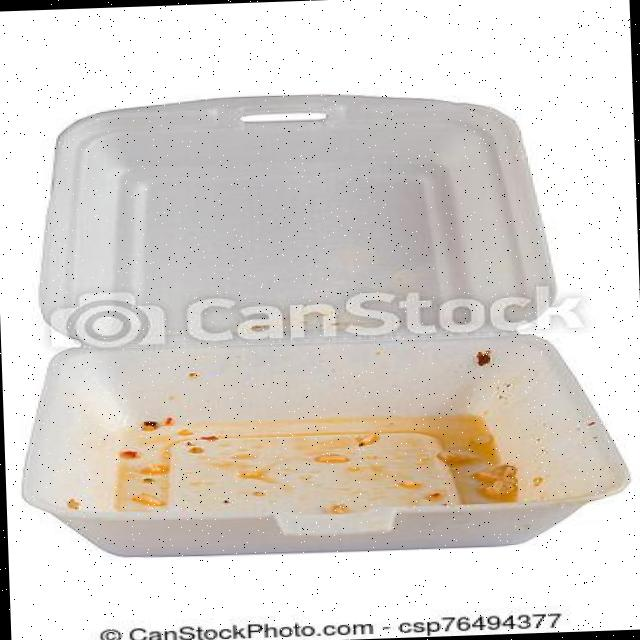styrofoam: (5, 81, 632, 563)
